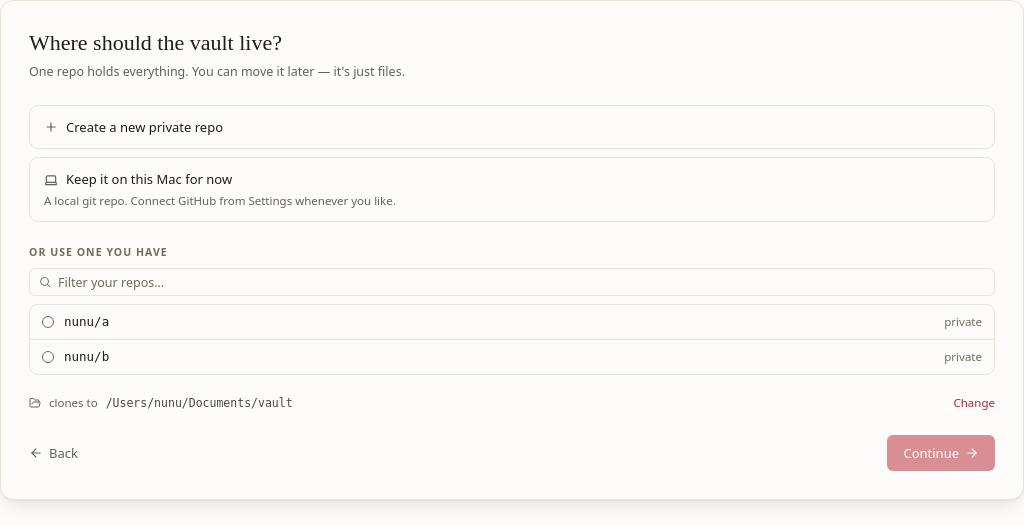
RepoPicker — signed in with a pasted token › PAT with several repos: nothing is picked for them, so Continue waits
Expected: the text "nunu/a" is shown, [64,313,109,331]
Expected: the button "Continue" is disabled, [887,435,995,471]
What coordinates should you click on to do the following:
click the text "nunu/b"
I would click on:
 (87, 357)
Its box is [64,348,109,366].
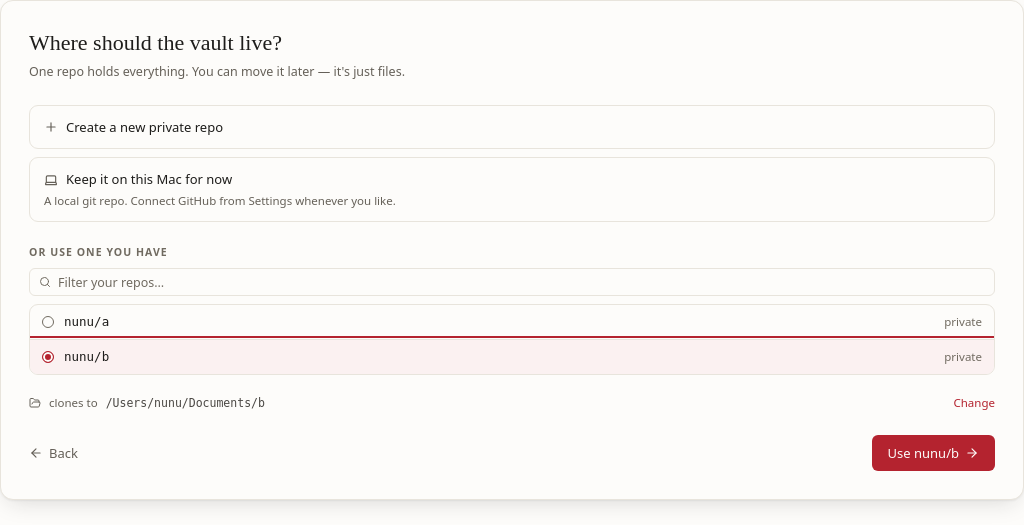
Result: the button "Use nunu/b" is enabled at [872,435,995,471]
